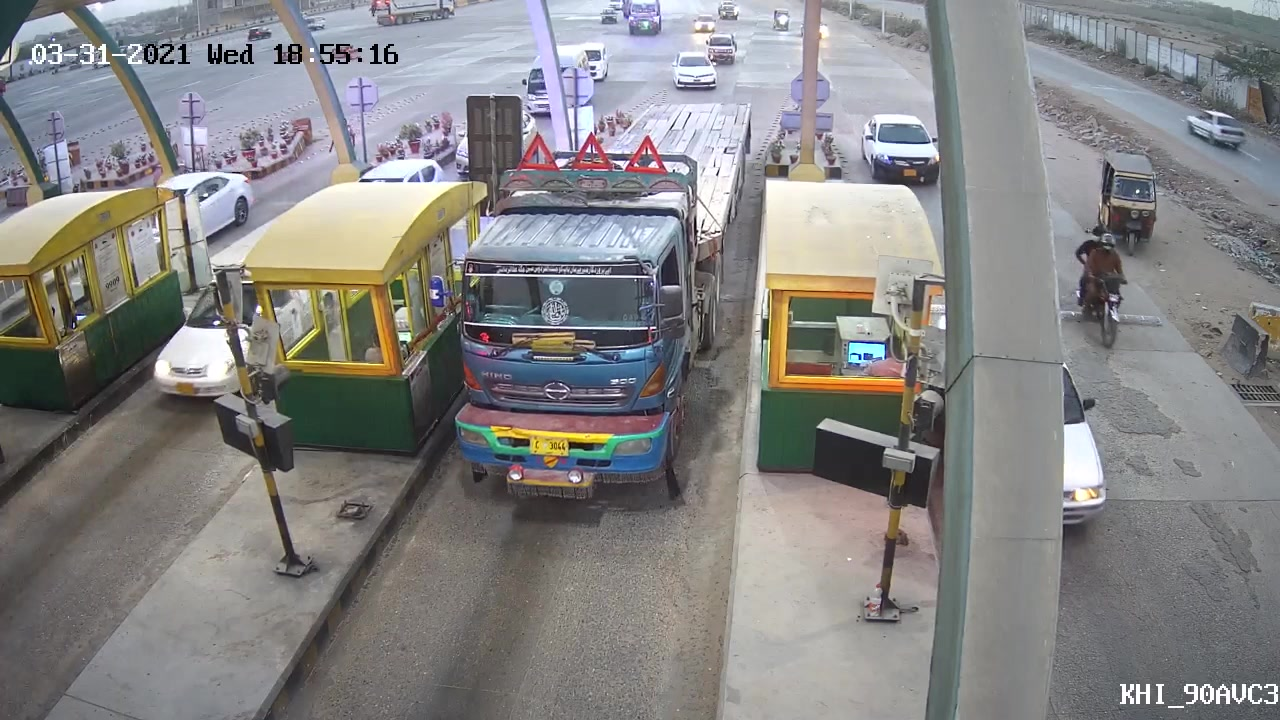F6: (425, 89, 753, 508)
